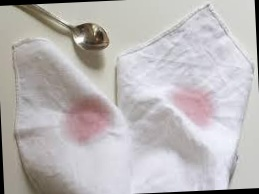wine: (57, 103, 117, 147), (172, 83, 214, 122)
